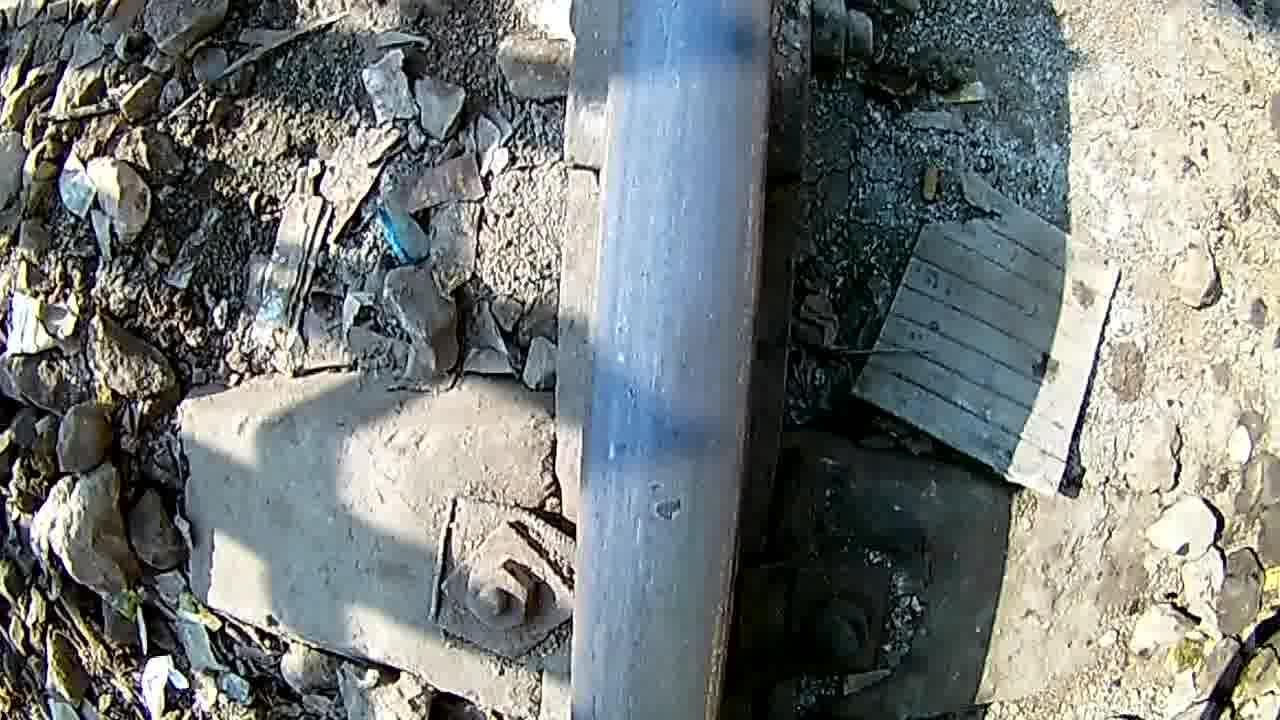crack: (601, 429, 711, 576)
